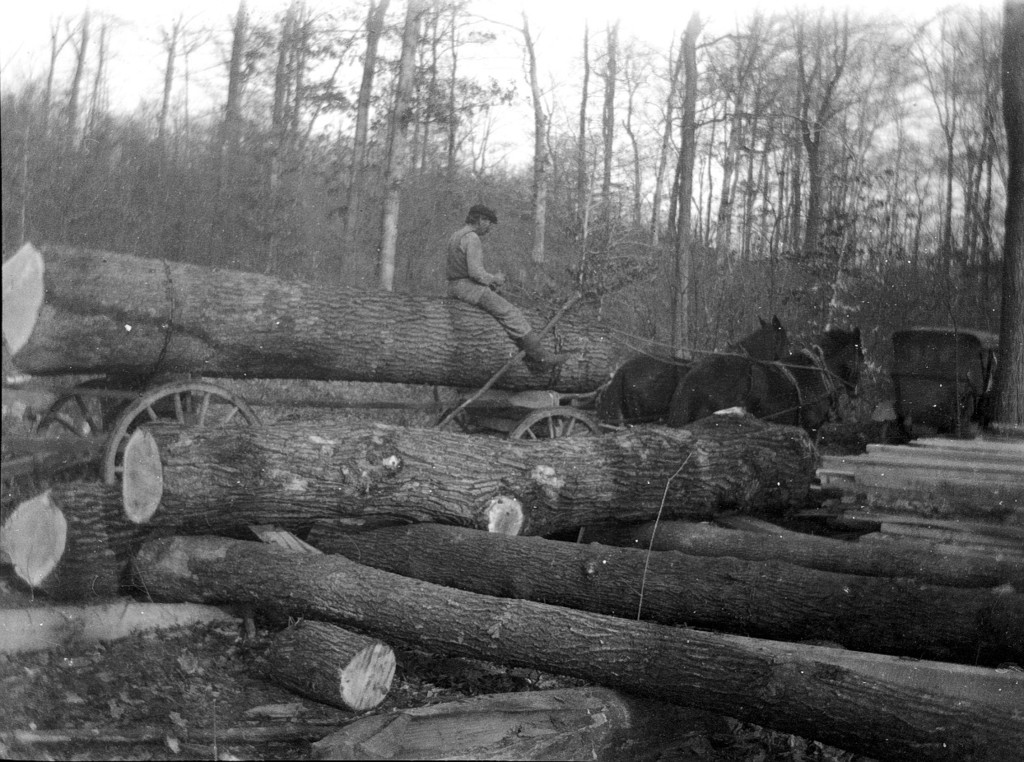person: (443, 202, 570, 369)
